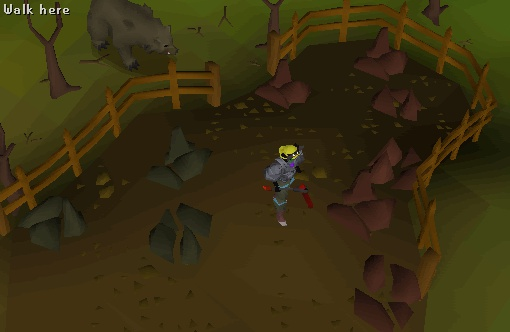coal: (139, 196, 221, 274), (137, 120, 219, 198)
iron: (250, 53, 311, 117), (349, 21, 410, 85), (365, 65, 426, 129)
